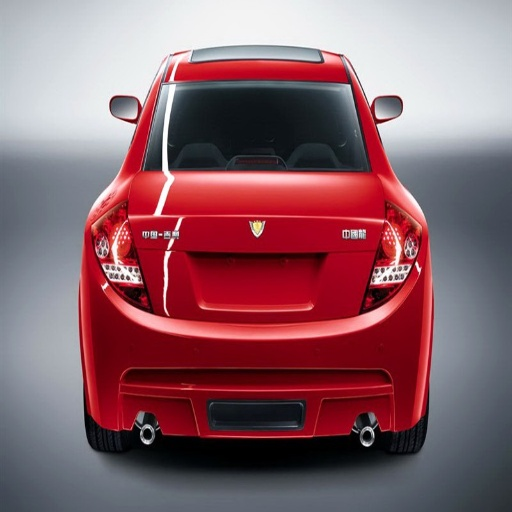back_bumper: (90, 270, 429, 442)
tailgate: (128, 172, 383, 340)
trunk: (145, 344, 375, 364), (133, 172, 237, 211), (280, 175, 386, 211)
